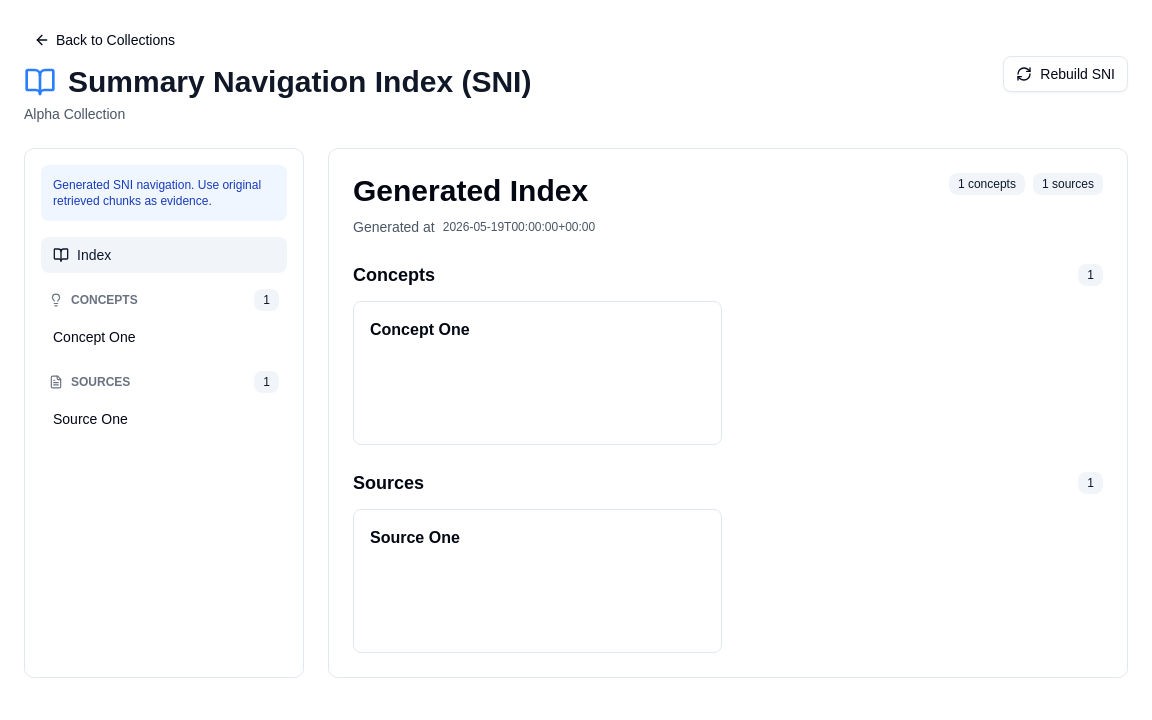
Test: LLM Wiki viewer › renders index markdown and fetches source pages from generated navigation
Expected: the heading "Generated Index" is shown, [353, 173, 595, 209]
Expected: the text "Generated SNI navigation. Use original retrieved chunks as evidence." is shown, [41, 165, 287, 221]
Click the 1st button "Source One" at (164, 419), box [41, 401, 287, 437]
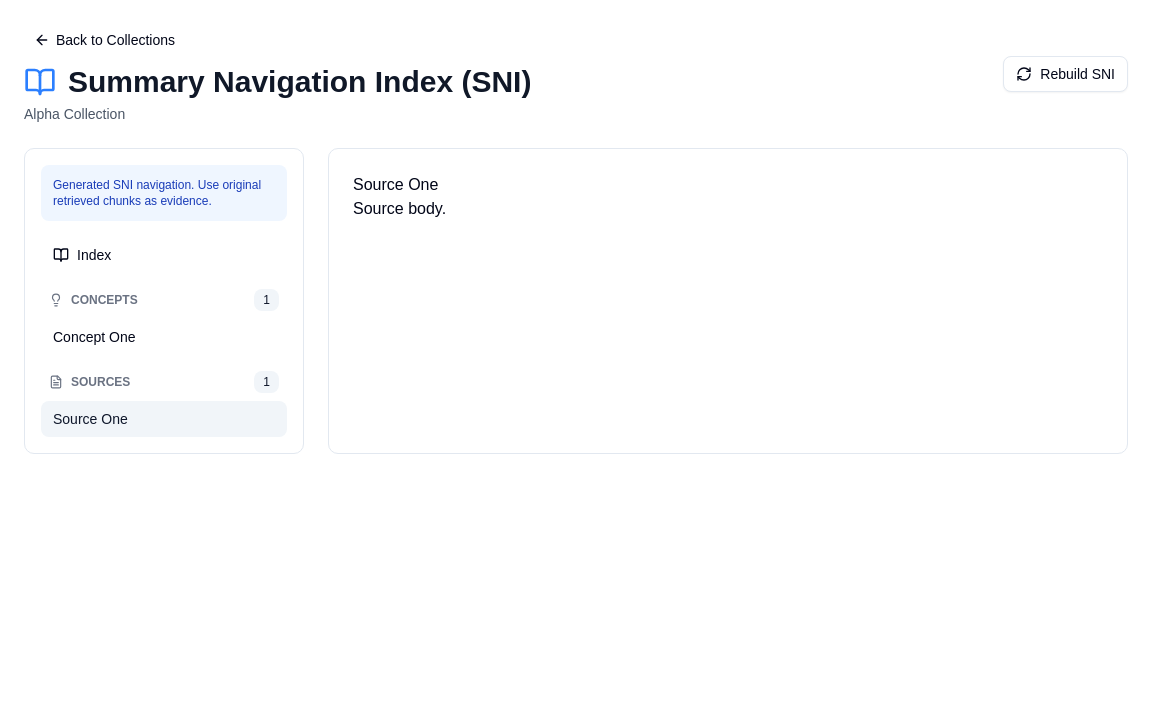
Now the text "Source body." is shown, box [353, 200, 446, 217]
